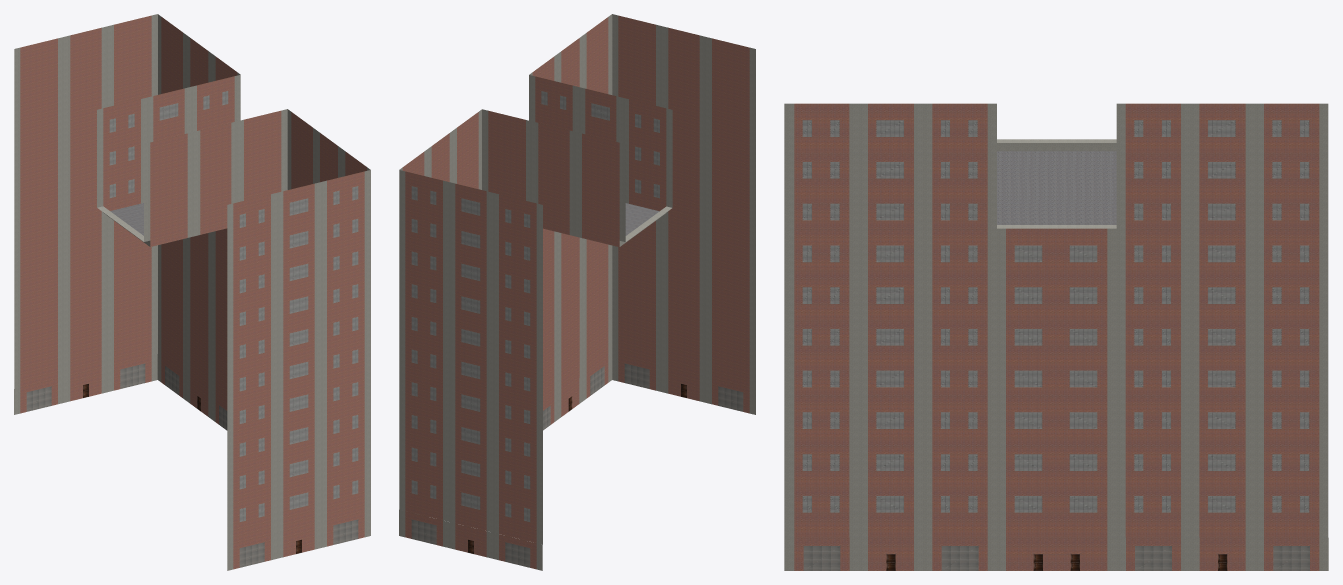
File: UBuilding.obj
The picture shows the model from 3 angles, left to right: view 1: azimuth 30°, elevation 25°; view 2: azimuth 150°, elevation 25°; view 3: azimuth 270°, elevation 25°; orthographic projection. The views are drawn at different scales.
Parts seen in each view (by area): view 1: Structure_1, Structure_0, Windows, Structure_5, Structure_2, Structure_4; view 2: Structure_1, Structure_0, Windows, Structure_5, Structure_2, Structure_4; view 3: Structure_1, Structure_0, Windows, Structure_4, Structure_5, Structure_2, Structure_3.
Boxes of the visible parts, bbox=[...] form: Structure_1: bbox=[20, 15, 366, 547]; Structure_0: bbox=[14, 14, 370, 570]; Windows: bbox=[109, 91, 358, 521]; Structure_5: bbox=[20, 355, 364, 569]; Structure_2: bbox=[26, 363, 358, 567]; Structure_4: bbox=[110, 203, 143, 235]; Structure_1: bbox=[402, 15, 749, 547]; Structure_0: bbox=[399, 14, 755, 570]; Windows: bbox=[411, 91, 659, 521]; Structure_5: bbox=[405, 355, 749, 569]; Structure_2: bbox=[411, 363, 743, 567]; Structure_4: bbox=[625, 203, 659, 235]; Structure_1: bbox=[794, 103, 1319, 554]; Structure_0: bbox=[784, 103, 1328, 570]; Windows: bbox=[802, 120, 1309, 512]; Structure_4: bbox=[997, 151, 1116, 224]; Structure_5: bbox=[794, 537, 1319, 570]; Structure_2: bbox=[803, 546, 1309, 570]; Structure_3: bbox=[886, 554, 1227, 570].
Size of the model in its own units: 23.01 by 56 by 59.11.
6 materials, 6 textured.
